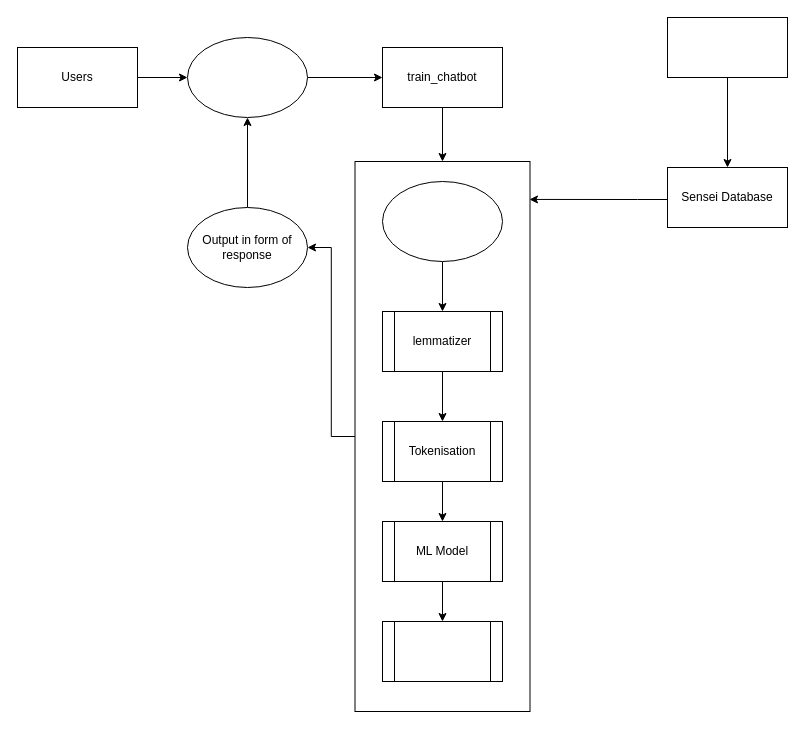
This 805x729 diagram has some shape labels left out. Each missing label, with the centre of its shape:
"Developer" goes at point (727, 47).
"Input Query" goes at point (247, 77).
"Neural Network" goes at point (442, 651).
"Pickle files" goes at point (442, 221).
